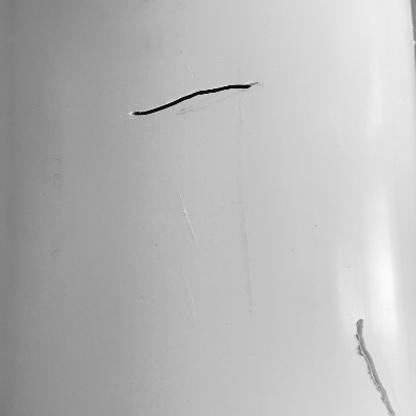fengxi: (127, 79, 258, 119)
sunshang: (351, 319, 401, 416)
